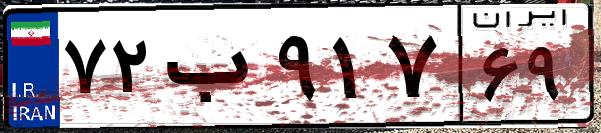1: (330, 28, 385, 110)
2: (110, 28, 158, 98)
6: (475, 38, 525, 113)
7: (385, 28, 445, 110), (57, 26, 110, 100)
9: (270, 28, 330, 110), (525, 38, 570, 115)
ب: (158, 20, 270, 120)
